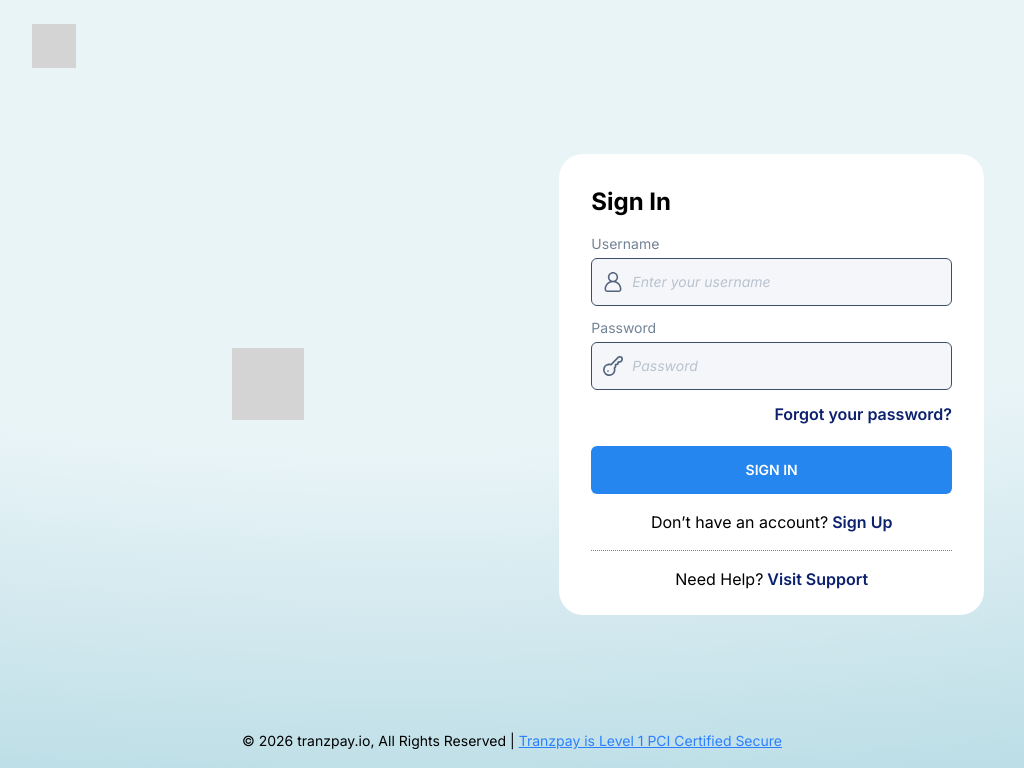
Test: LoginPage › lockout UI › typing a locked username shows the countdown alert, disables submit, keeps inputs usable
The image size is (1024, 768).
Step 1. Type "locked.user@example.com" into the field with placeholder "Enter your username" → [772, 282], box [591, 258, 952, 306]
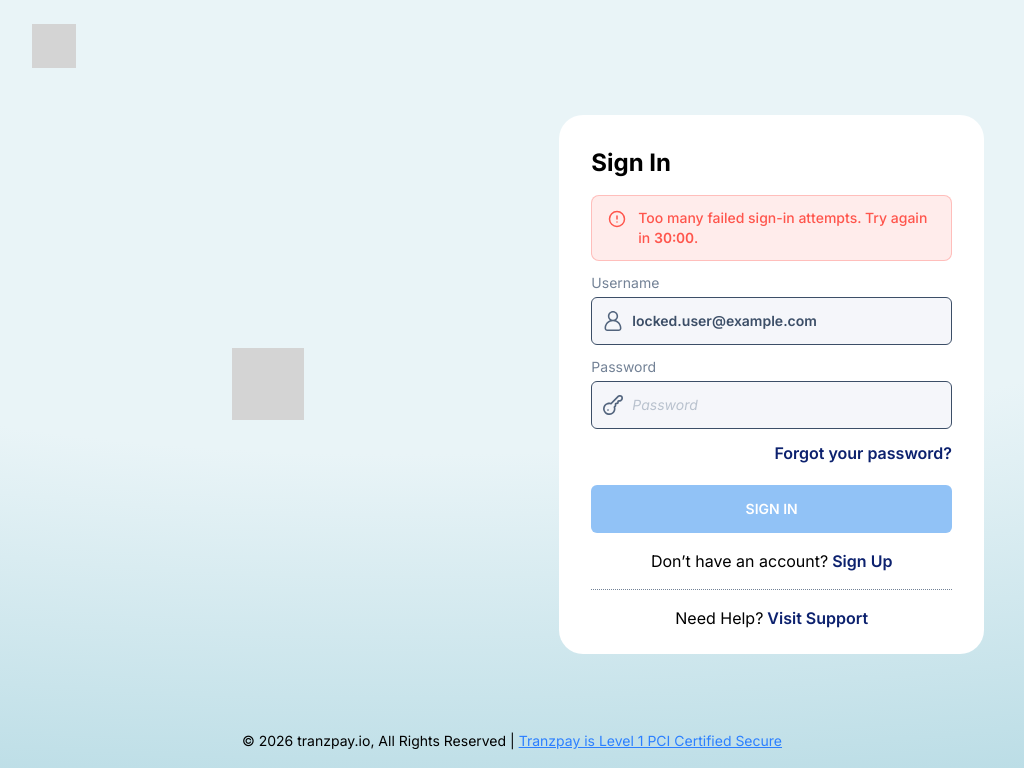
Now the message shows "Too many failed sign-in attempts. Try again in", box [638, 208, 927, 246]
Now the message shows "30:00", box [654, 228, 694, 246]
Now the button "SIGN IN" is disabled, box [591, 484, 952, 532]
